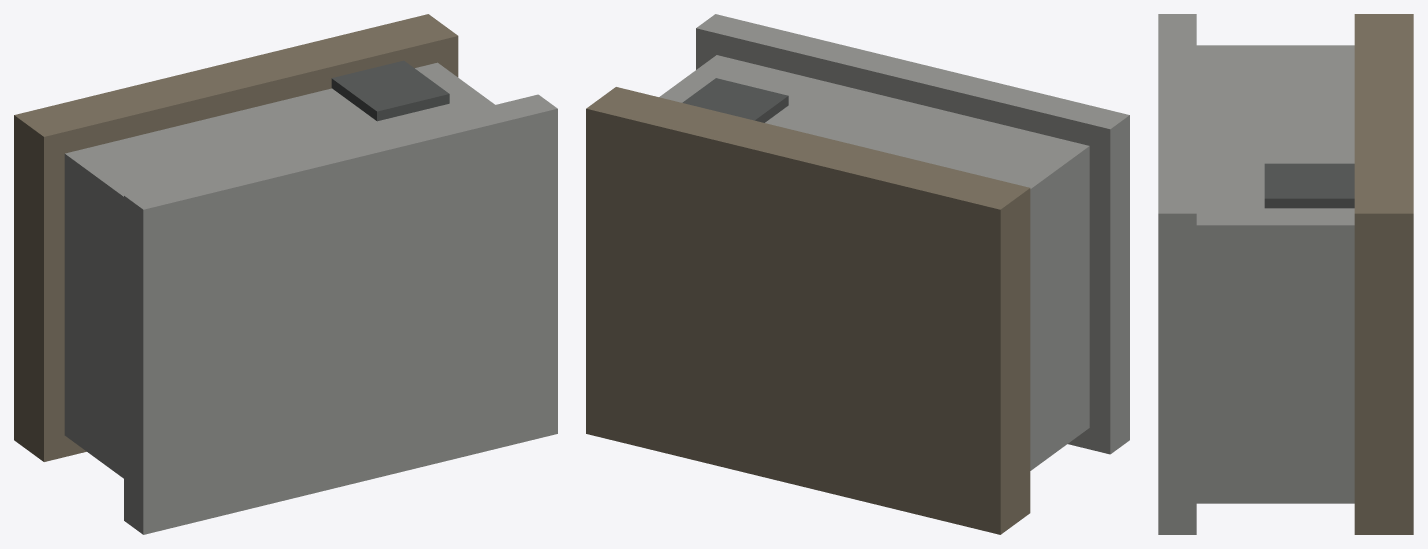
The model's file is concrete_bunker.glb.
The picture shows the model from 3 angles, left to right: view 1: azimuth 30°, elevation 25°; view 2: azimuth 150°, elevation 25°; view 3: azimuth 270°, elevation 25°; orthographic projection.
Parts seen in each view (by area): view 1: Roof, Base, Body, Door; view 2: Base, Body, Roof, Door; view 3: Body, Base, Roof, Door.
Part boxes in pixels (x1,y1,x2,y2): Roof: (124,94,557,534); Base: (14,14,458,461); Body: (64,62,494,478); Door: (331,60,449,121); Base: (586,87,1030,534); Body: (659,55,1089,470); Roof: (696,14,1129,454); Door: (682,78,788,122); Body: (1196,45,1354,503); Base: (1354,14,1413,534); Roof: (1158,14,1196,534); Door: (1264,163,1354,208).
Size of the model in its own units: 8 by 6 by 4.32.
